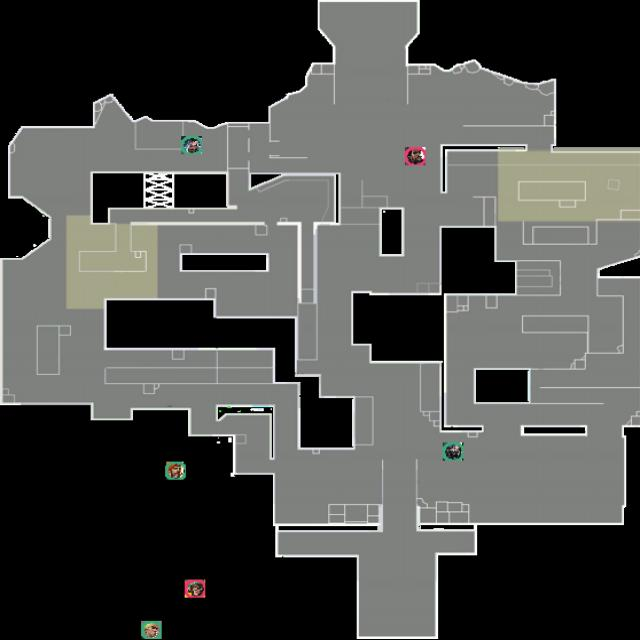atk_harbor: (405, 147, 425, 165)
atk_killjoy: (185, 580, 205, 598)
def_brimstone: (165, 462, 186, 479)
def_fade: (181, 136, 202, 154)
def_gekko: (141, 621, 162, 639)
def_viper: (443, 442, 463, 460)
